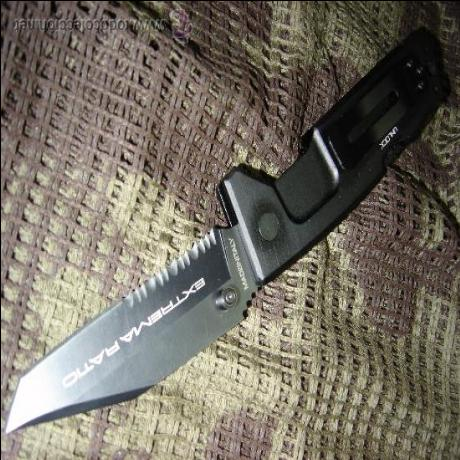weapon: (3, 24, 453, 441)
